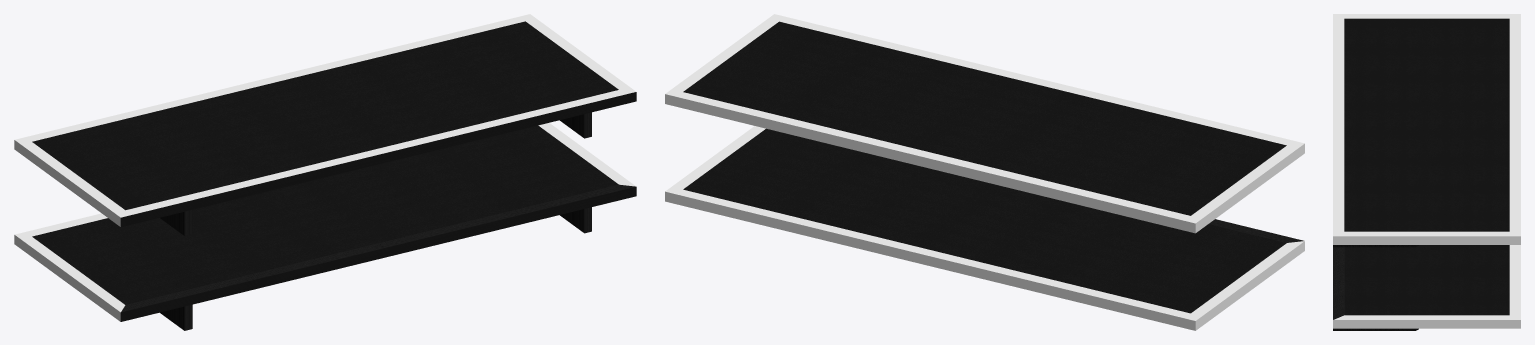
The model's file is Shelf_01.FBX.
3 renders of one model, left to right at view 1: azimuth 30°, elevation 25°; view 2: azimuth 150°, elevation 25°; view 3: azimuth 270°, elevation 25°, orthographic. The views are drawn at different scales.
Visible parts, largest first — view 1: Shelf_01; view 2: Shelf_01; view 3: Shelf_01.
Part boxes in pixels (left/top/right/bottom): Shelf_01: left=14, top=14, right=636, bottom=330; Shelf_01: left=665, top=14, right=1304, bottom=330; Shelf_01: left=1333, top=14, right=1520, bottom=330.
Bounding box in the file's own units: 110 × 26.32 × 39.37.
